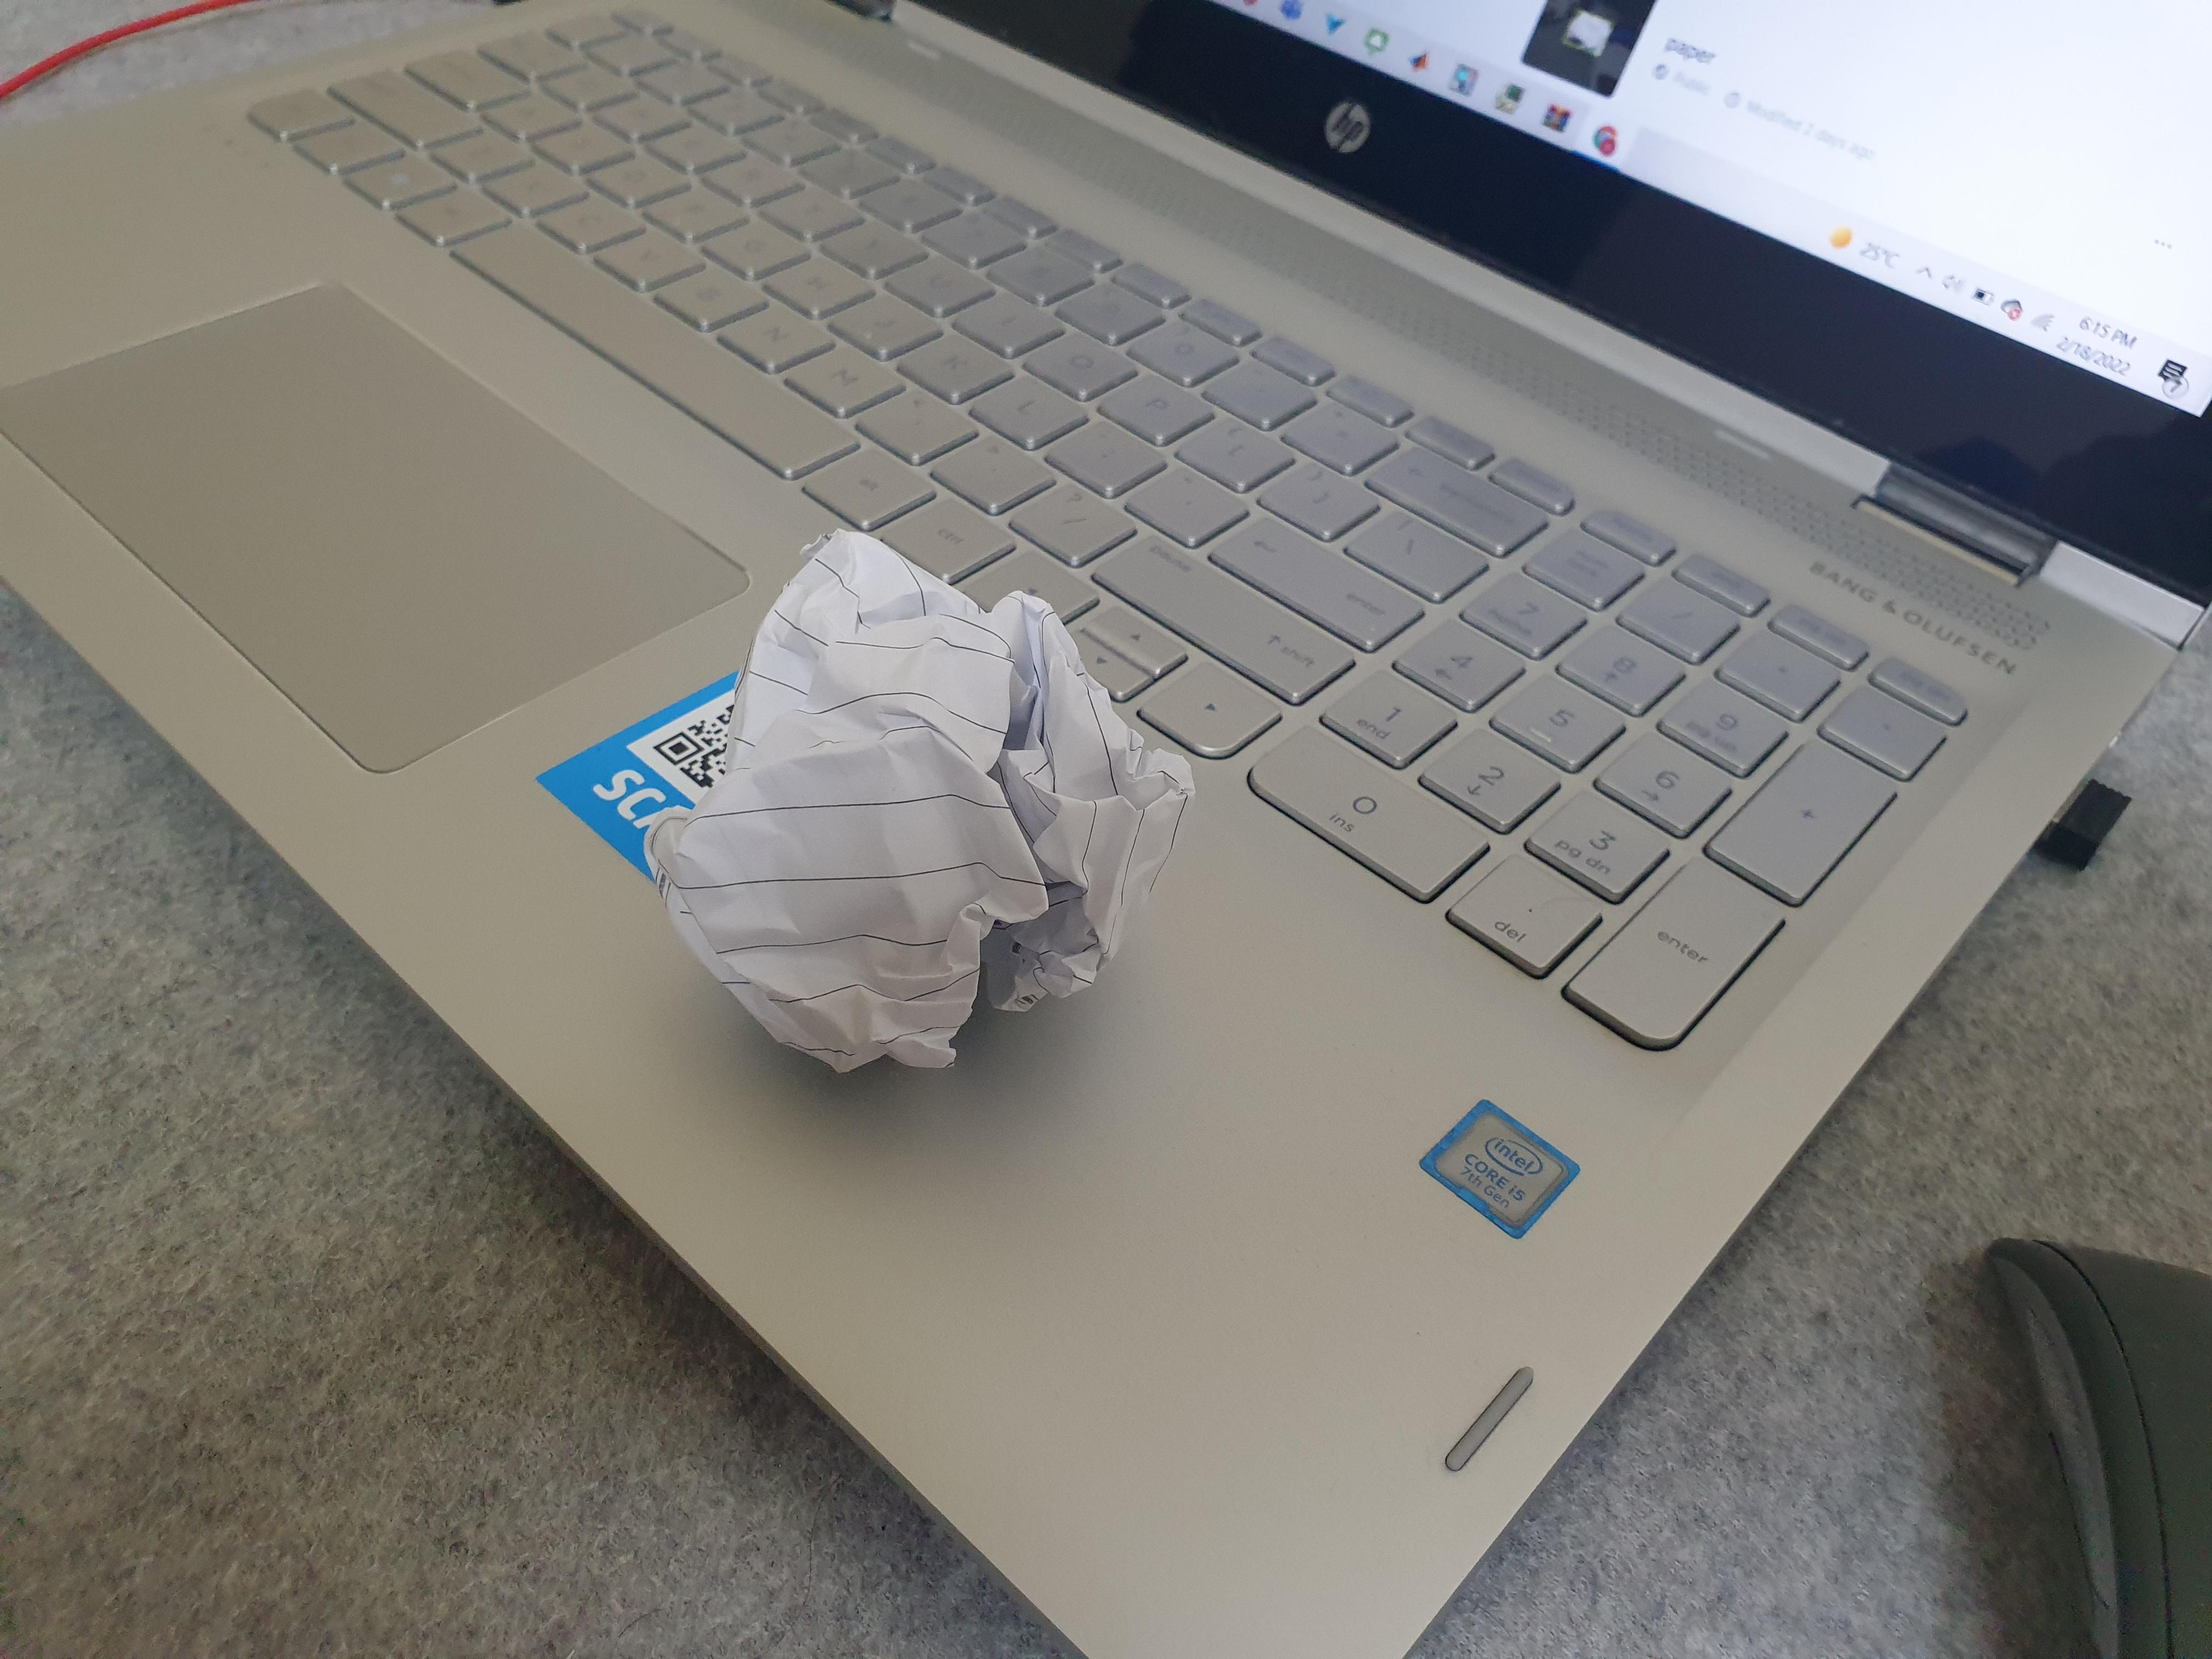Paper: (624, 500, 1206, 1112)
